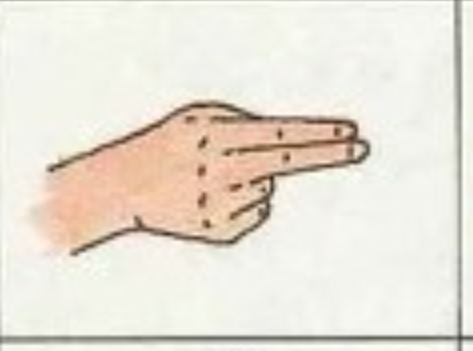디귿: (40, 96, 385, 268)
